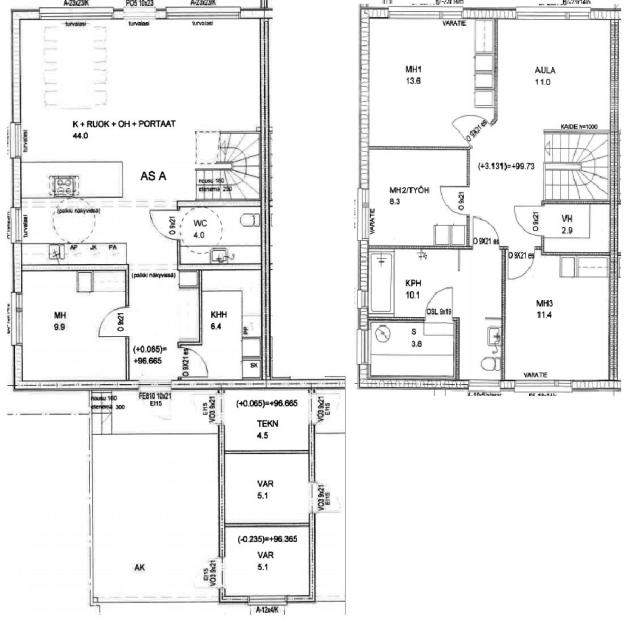door: (422, 282, 458, 320), (148, 206, 182, 242), (94, 304, 130, 338), (511, 201, 544, 238), (438, 183, 472, 217), (504, 247, 537, 282), (470, 213, 501, 247), (180, 345, 210, 380)
window: (159, 1, 244, 26), (34, 2, 115, 26), (513, 4, 595, 24), (386, 3, 450, 22), (509, 377, 575, 395), (355, 182, 371, 243), (10, 290, 26, 347), (354, 324, 371, 369), (8, 121, 24, 159), (466, 377, 503, 392), (248, 592, 288, 604), (11, 206, 23, 244), (217, 555, 228, 589), (355, 288, 369, 312)
zone: (358, 16, 491, 148), (502, 253, 616, 385), (98, 20, 264, 106), (492, 17, 616, 132), (16, 269, 127, 383), (362, 149, 466, 249), (17, 206, 172, 266), (196, 266, 262, 382), (124, 274, 198, 374), (364, 248, 462, 321), (221, 453, 311, 525), (220, 525, 314, 591), (363, 320, 458, 381), (221, 390, 311, 454), (178, 202, 262, 267), (540, 201, 615, 256), (402, 265, 463, 324), (308, 388, 344, 430)
